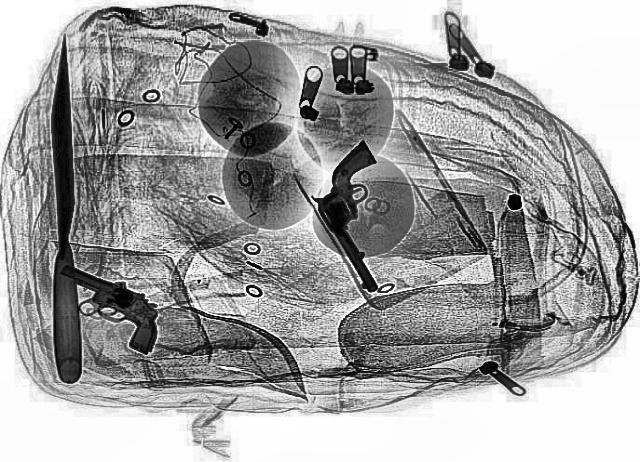Gun: (280, 140, 450, 294), (26, 257, 190, 355)
Knife: (38, 34, 82, 382)
